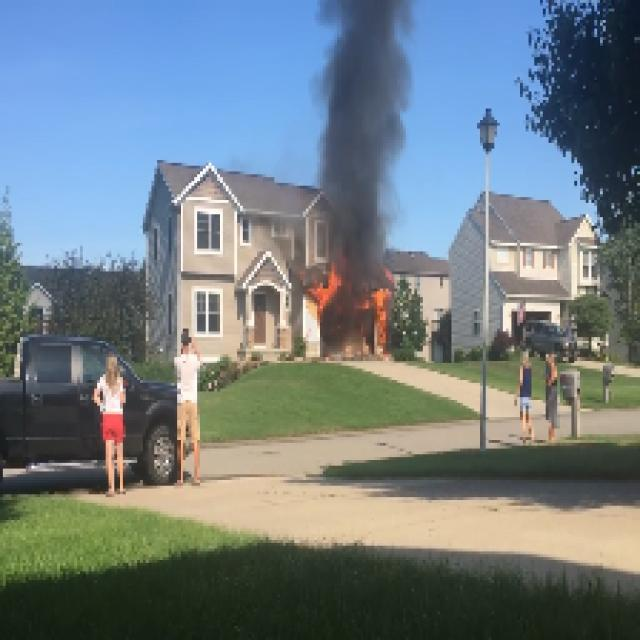Fire: (368, 280, 394, 343), (308, 266, 343, 306)
Smoke: (314, 2, 420, 252)
